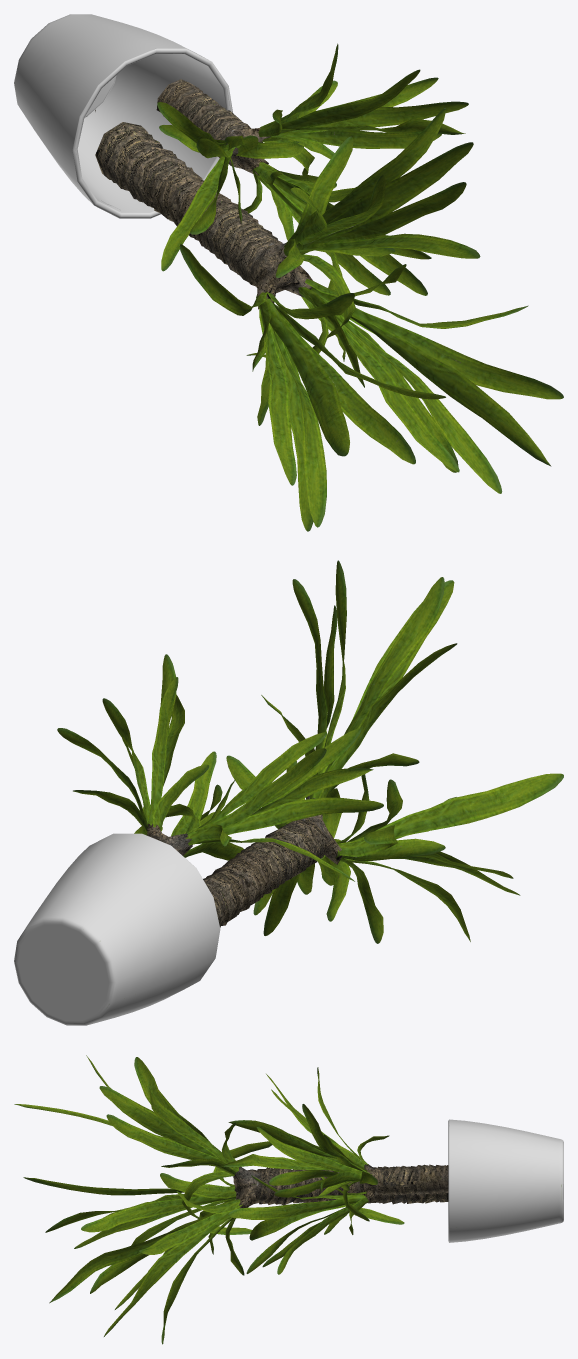
File: plant.obj
3 renders of one model, top to bottom at view 1: azimuth 30°, elevation 25°; view 2: azimuth 150°, elevation 25°; view 3: azimuth 270°, elevation 25°, orthographic. The views are drawn at different scales.
Visible parts, largest first — view 1: plant_Chocofur_Flowers_34; view 2: plant_Chocofur_Flowers_34; view 3: plant_Chocofur_Flowers_34.
Boxes of the visible parts, left/top/right/bottom form: plant_Chocofur_Flowers_34: left=14, top=14, right=563, bottom=531; plant_Chocofur_Flowers_34: left=14, top=560, right=563, bottom=1025; plant_Chocofur_Flowers_34: left=14, top=1055, right=563, bottom=1344.
Bounding box in the file's own units: 0.8038 × 0.9134 × 1.81.
Materials: 1 (1 with a texture image).
